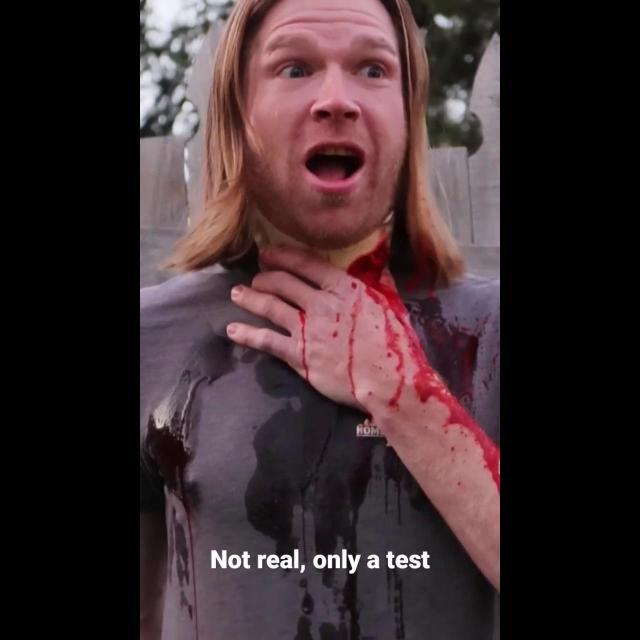blood: (347, 273, 499, 491), (406, 298, 478, 413), (346, 234, 404, 310), (298, 310, 309, 383), (332, 330, 338, 338), (336, 312, 340, 323)
